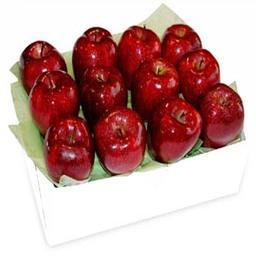apple: (145, 97, 202, 163), (94, 106, 145, 175), (28, 69, 81, 131), (43, 117, 93, 181), (198, 84, 245, 147), (117, 25, 165, 81), (18, 40, 68, 91), (82, 66, 127, 120), (132, 59, 180, 109), (72, 27, 117, 78), (179, 48, 221, 97), (162, 24, 202, 65)
